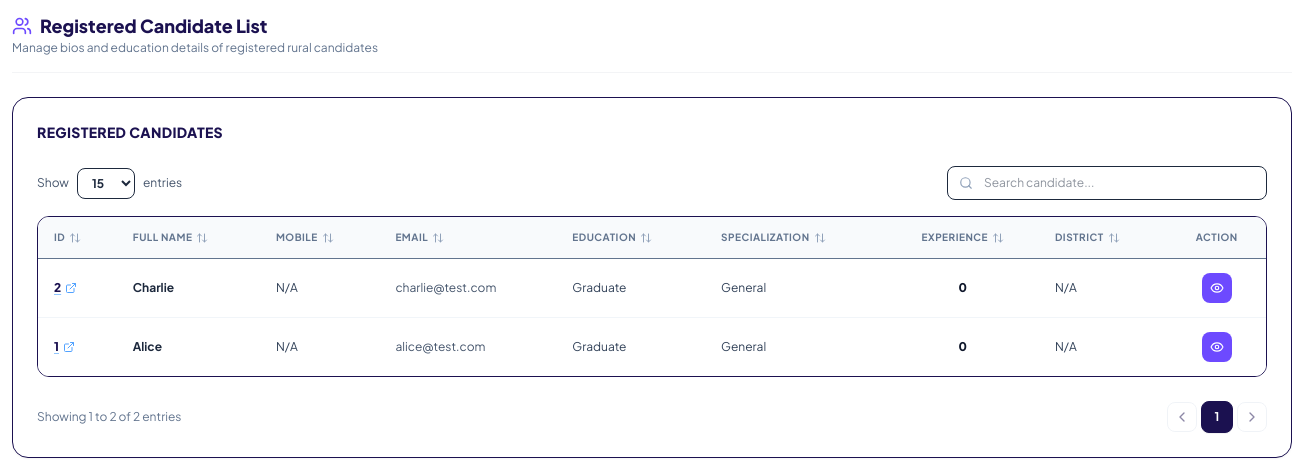
Test: AdminRegisteredUsers › filters by search input
Expected: the text "Alice" is shown, [117,318,260,376]
Expected: the text "Charlie" is shown, [117,259,260,318]
In the field with placeholder "Search candidate...": (1107, 183) [947,166,1267,200], type "Alice"
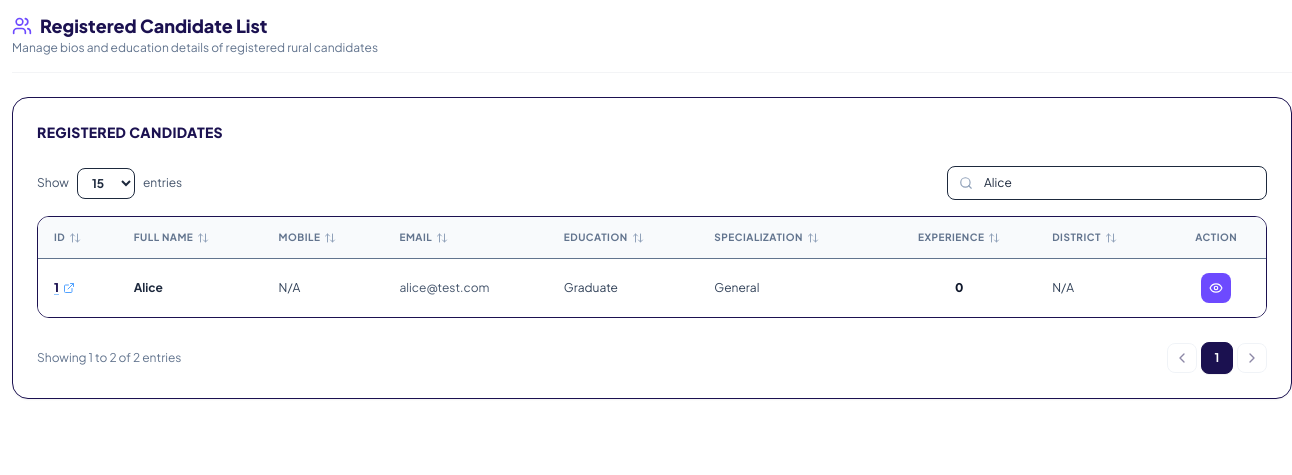
Expected: the text "Alice" is shown, [118,259,263,317]
Expected: the text "Charlie" is gone
